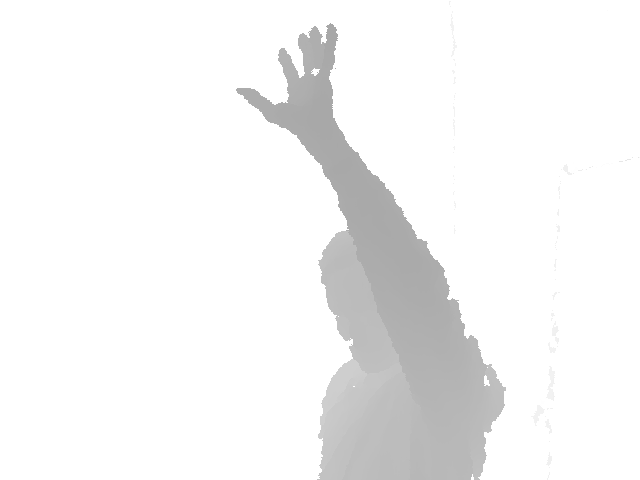hand: (235, 22, 346, 135)
head: (319, 229, 406, 374)
person: (235, 22, 507, 479)
